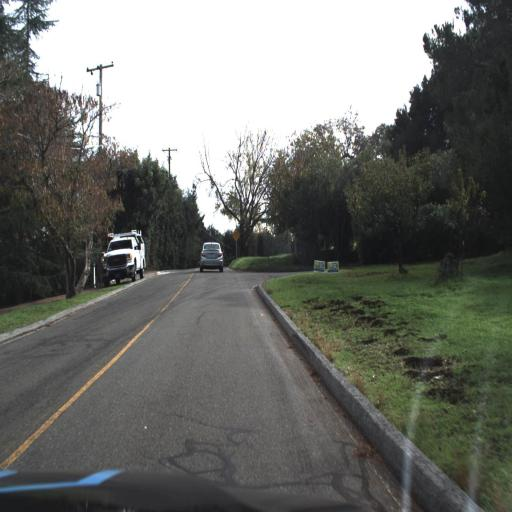car: (100, 229, 148, 281), (198, 236, 226, 272)
truck: (94, 221, 153, 290)
